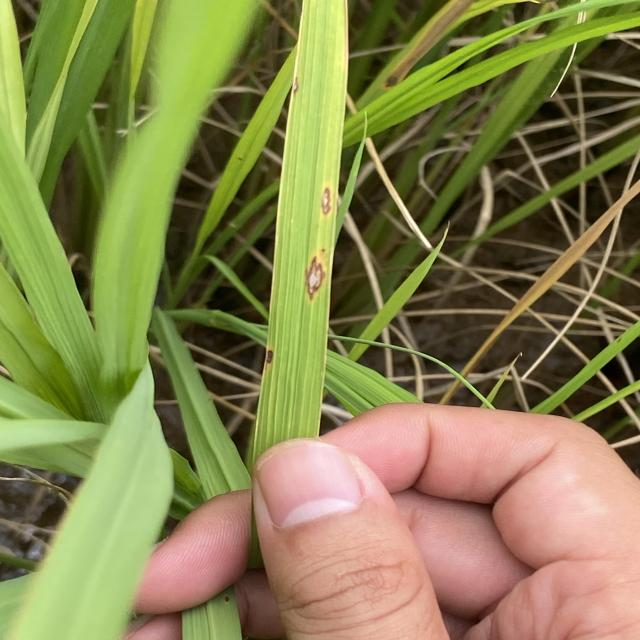Dao on: (306, 249, 326, 300), (321, 188, 332, 216)
